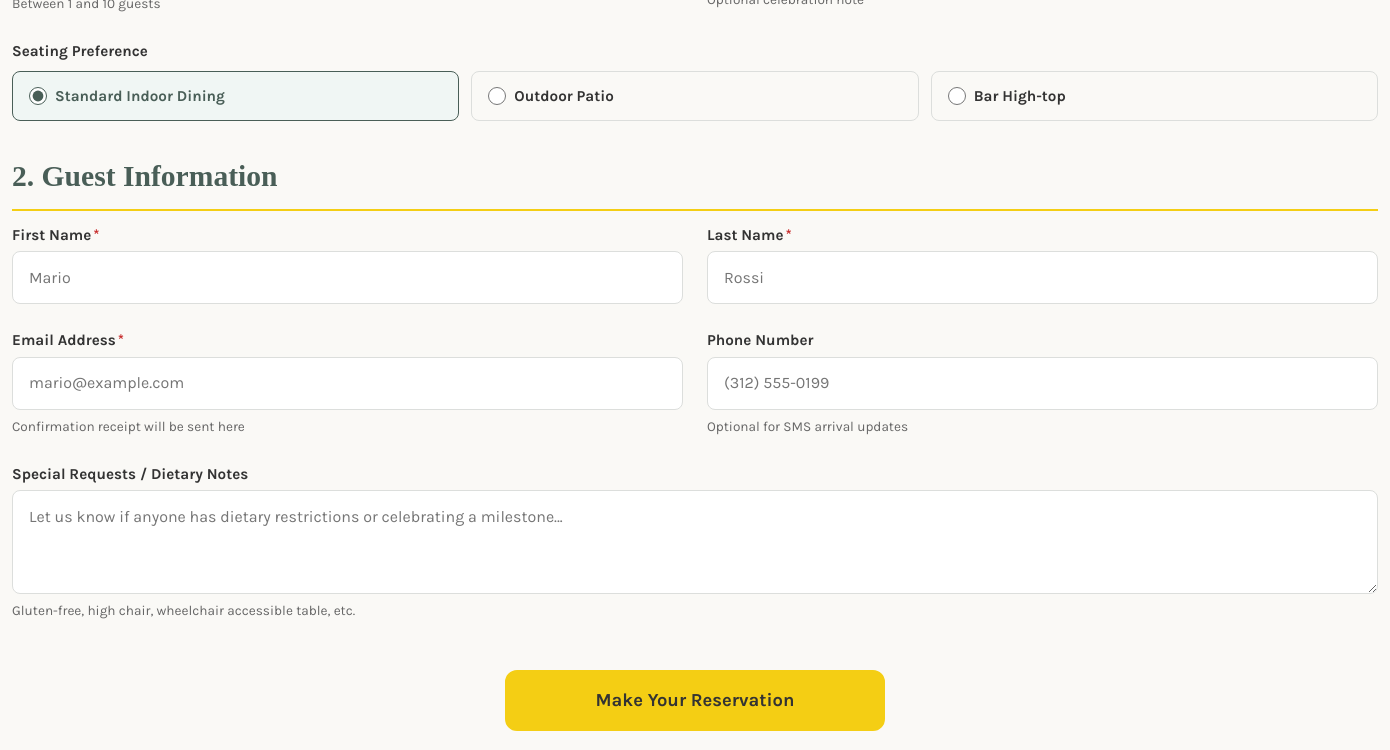
Scenario: Meta Capstone - BookingForm Component › Form Interaction & Submission › shows validation errors and does not submit when required fields are empty
(page scrolled)
Click the button with aria-label "On Click": {"x": 695, "y": 700} [505,670,885,731]
(page scrolled)
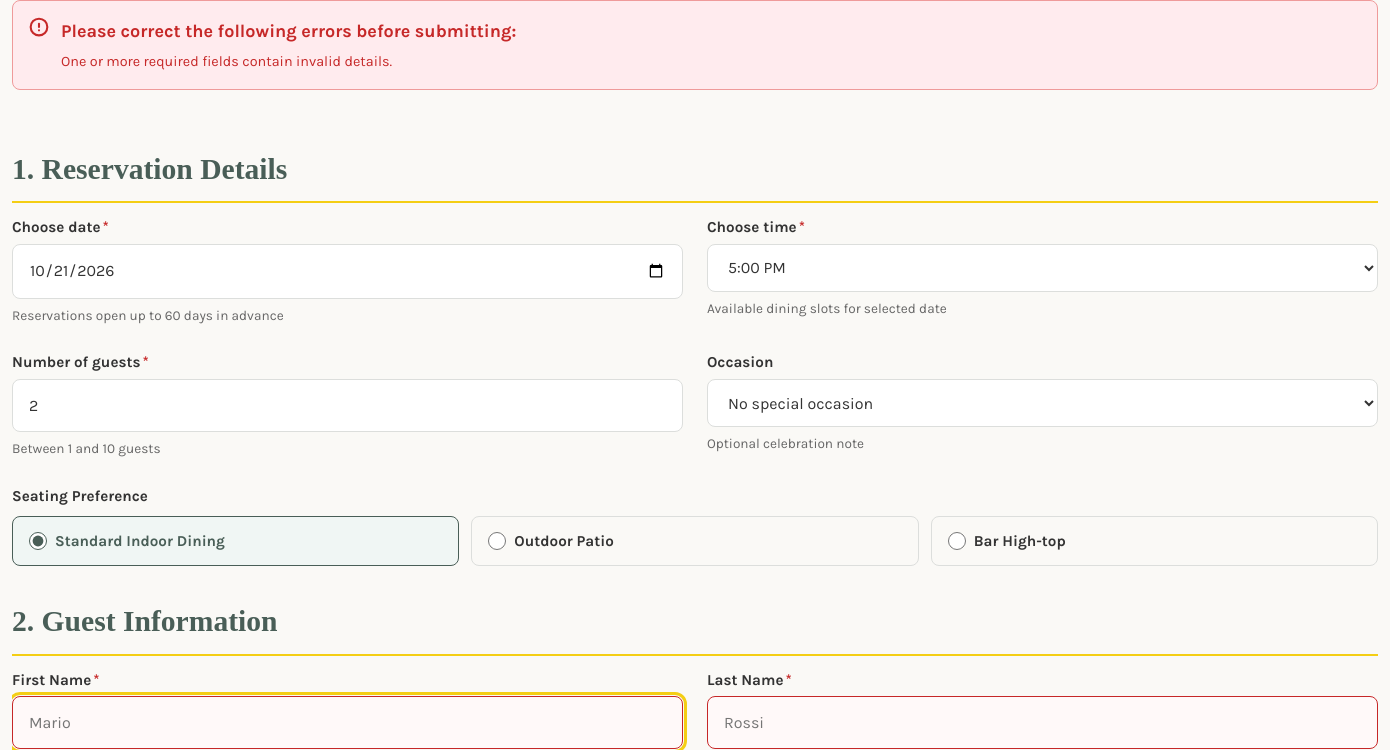
Expected: the 1st message is shown, [12,0,1378,90]
Expected: the text "Please correct the following errors before submitting:" is shown, [61,20,516,42]
